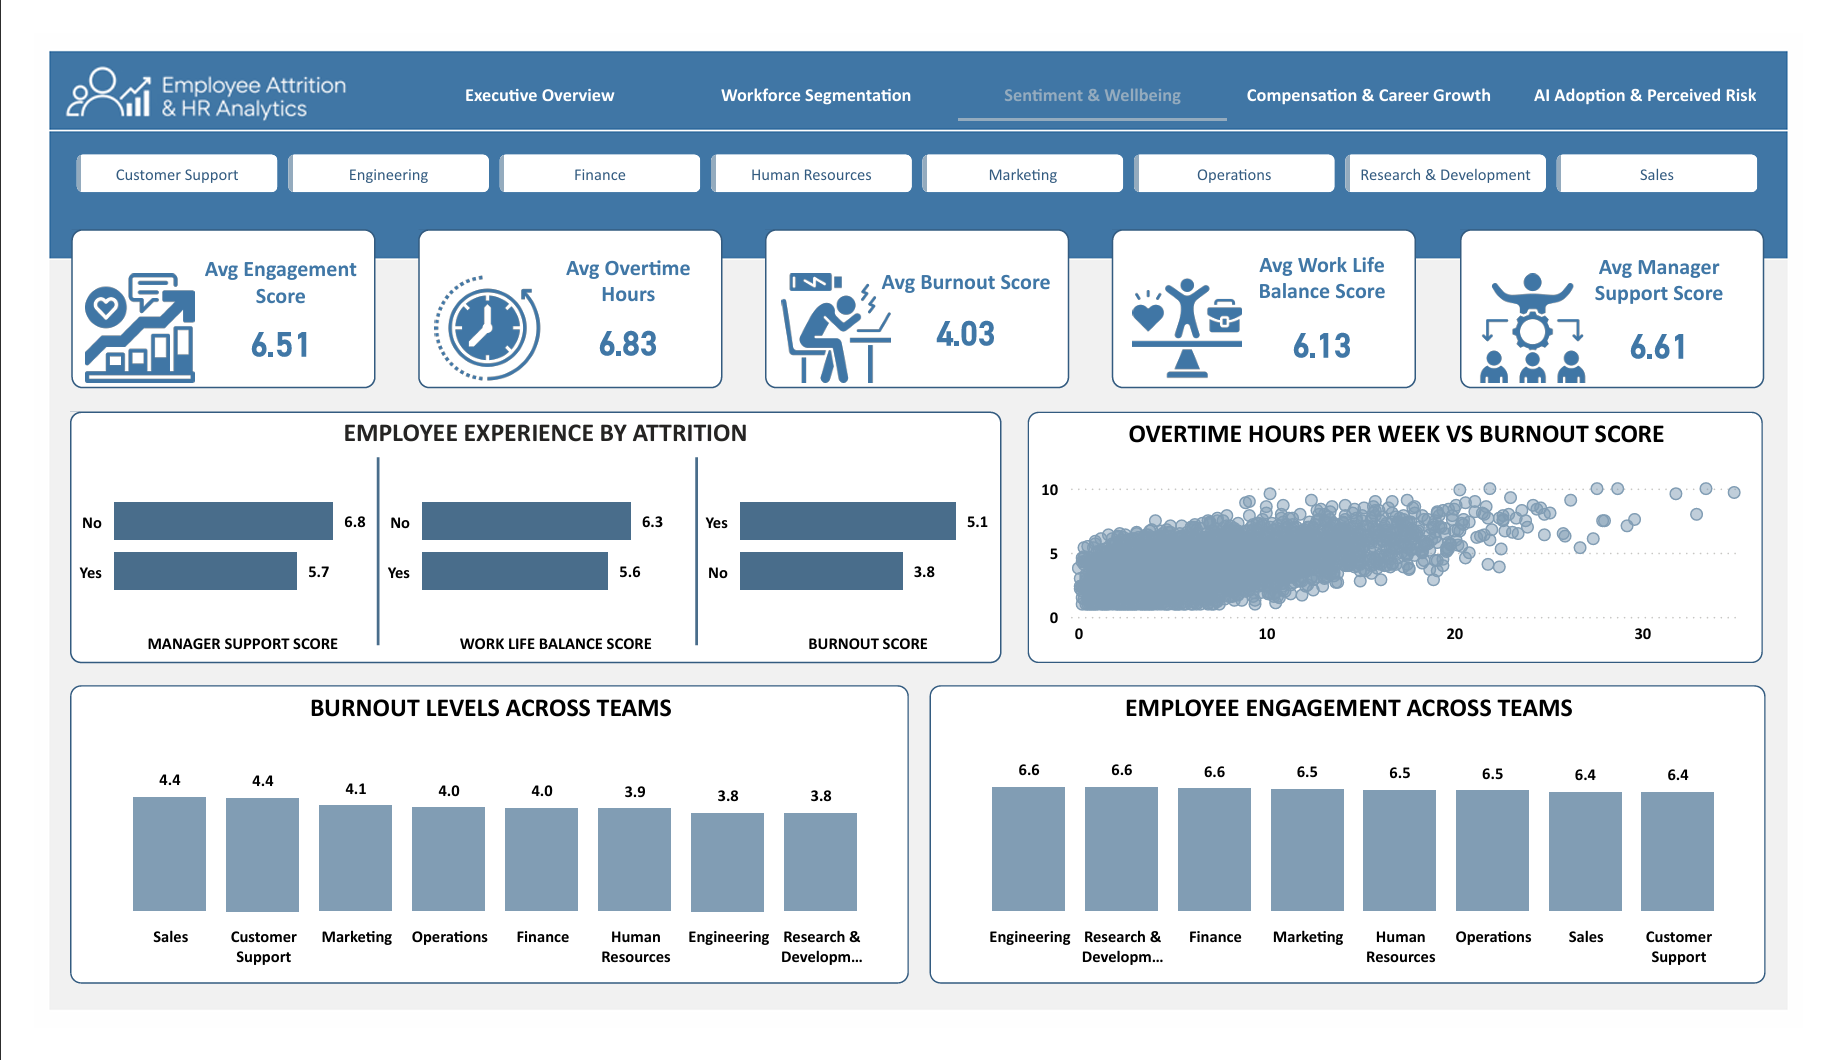

This screenshot's page, from the dashboard's own definition file:
{"tool":"powerbi","page":{"name":"Sentiment & Wellbeing","canvas":[1280,720],"ordinal":3},"visuals":[{"type":"shape","box":[277.8,142,220,115],"z":0},{"type":"shape","box":[26.4,273.6,673.6,182.7],"z":1000},{"type":"scatterChart","title":"OVERTIME HOURS PER WEEK VS BURNOUT SCORE","fields":{"X":["vw_dashboard_employees.overtime_hours_per_week"],"Y":["vw_dashboard_employees.burnout_score"]},"box":[718.8,273.8,532.5,182.5],"z":2000},{"type":"columnChart","title":"BURNOUT LEVELS ACROSS TEAMS","fields":{"Category":["vw_dashboard_employees.department"],"Y":["measures_table.Avg Burnout Score"]},"box":[25.8,471.7,606.7,215.8],"z":3000},{"type":"barChart","fields":{"Category":["vw_dashboard_employees.attrition"],"Y":["measures_table.Avg Manager Support Score"]},"box":[26.4,293.6,222.7,160],"z":4000},{"type":"pageNavigator","box":[268.6,24.3,995.7,40],"z":5000},{"type":"advancedSlicerVisual","fields":{"Values":["vw_dashboard_employees.department"]},"box":[26.2,82.5,1226.2,37.5],"z":6000},{"type":"shape","box":[780.3,142,220,115],"z":7000},{"type":"shape","box":[1031.5,142,220,115],"z":8000},{"type":"card","title":"Avg Overtime Hours","fields":{"Values":["measures_table.Avg Overtime Hours"]},"box":[363.1,160.5,133.9,78.4],"z":9000},{"type":"image","box":[282.3,173.7,94.1,79.6],"z":10000},{"type":"card","title":"Avg Work Life Balance Score","fields":{"Values":["measures_table.Avg Work Life Balance Score"]},"box":[863.8,157.6,136.2,85],"z":11000},{"type":"image","box":[778.2,173.7,112.2,79.6],"z":12000},{"type":"card","title":"Avg Manager Support Score","fields":{"Values":["measures_table.Avg Manager Support Score"]},"box":[1101.5,159.3,150,85],"z":13000},{"type":"image","box":[1031.5,173.7,105,79.6],"z":14000},{"type":"shape","box":[26.5,142,220,115],"z":15000},{"type":"card","title":"Avg Engagement Score","fields":{"Values":["measures_table.Avg Engagement Score"]},"box":[103.6,160.8,149.7,78.6],"z":16000},{"type":"image","box":[26.5,173.7,98.9,79.6],"z":17000},{"type":"columnChart","title":"EMPLOYEE ENGAGEMENT ACROSS TEAMS","fields":{"Category":["vw_dashboard_employees.department"],"Y":["measures_table.Avg Engagement Score"]},"box":[647.5,471.7,605,215.8],"z":18000},{"type":"barChart","fields":{"Category":["vw_dashboard_employees.attrition"],"Y":["measures_table.Avg Work Life Balance Score"]},"box":[248.8,293.8,230,160],"z":19000},{"type":"barChart","fields":{"Category":["vw_dashboard_employees.attrition"],"Y":["measures_table.Avg Burnout Score"]},"box":[479,294,222,160],"z":20000},{"type":"shape","box":[463.3,306.2,32.5,137.5],"z":21000},{"type":"shape","box":[232.5,306.2,32.5,137.5],"z":22000},{"type":"textbox","box":[178.4,272,383.1,42.4],"z":23000},{"type":"shape","box":[529,142,220,115],"z":24000},{"type":"card","title":"Avg Burnout Score","fields":{"Values":["measures_table.Avg Burnout Score"]},"box":[599.6,170.1,149.6,62.7],"z":25000},{"type":"image","box":[521.2,173.7,118.2,79.6],"z":25001}]}

Visuals, with their boxes in screenshot pixels (x1, y1, x2, y2), scaled from the page's 1280x720 canvas onto the 1836x1060 screenshot:
shape: <box>398,209,714,378</box>
shape: <box>38,403,1004,672</box>
"OVERTIME HOURS PER WEEK VS BURNOUT SCORE" scatterChart: <box>1031,403,1795,672</box>
"BURNOUT LEVELS ACROSS TEAMS" columnChart: <box>37,694,907,1012</box>
barChart - vw_dashboard_employees.attrition x measures_table.Avg Manager Support Score: <box>38,432,357,668</box>
pageNavigator: <box>385,36,1813,95</box>
advancedSlicerVisual - vw_dashboard_employees.department: <box>38,121,1796,177</box>
shape: <box>1119,209,1435,378</box>
shape: <box>1480,209,1795,378</box>
"Avg Overtime Hours" card: <box>521,236,713,352</box>
image: <box>405,256,540,373</box>
"Avg Work Life Balance Score" card: <box>1239,232,1434,357</box>
image: <box>1116,256,1277,373</box>
"Avg Manager Support Score" card: <box>1580,235,1795,360</box>
image: <box>1480,256,1630,373</box>
shape: <box>38,209,354,378</box>
"Avg Engagement Score" card: <box>149,237,363,352</box>
image: <box>38,256,180,373</box>
"EMPLOYEE ENGAGEMENT ACROSS TEAMS" columnChart: <box>929,694,1797,1012</box>
barChart - vw_dashboard_employees.attrition x measures_table.Avg Work Life Balance Score: <box>357,433,687,668</box>
barChart - vw_dashboard_employees.attrition x measures_table.Avg Burnout Score: <box>687,433,1005,668</box>
shape: <box>665,451,711,653</box>
shape: <box>333,451,380,653</box>
textbox: <box>256,400,805,463</box>
shape: <box>759,209,1074,378</box>
"Avg Burnout Score" card: <box>860,250,1075,343</box>
image: <box>748,256,917,373</box>
